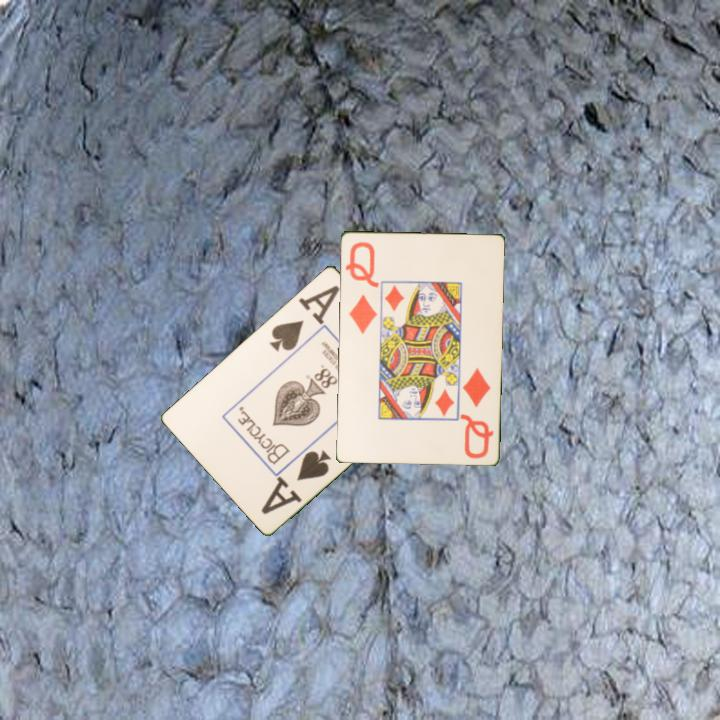As: (257, 446, 334, 517), (265, 288, 335, 354)
Qd: (342, 238, 381, 336), (458, 364, 496, 462)
